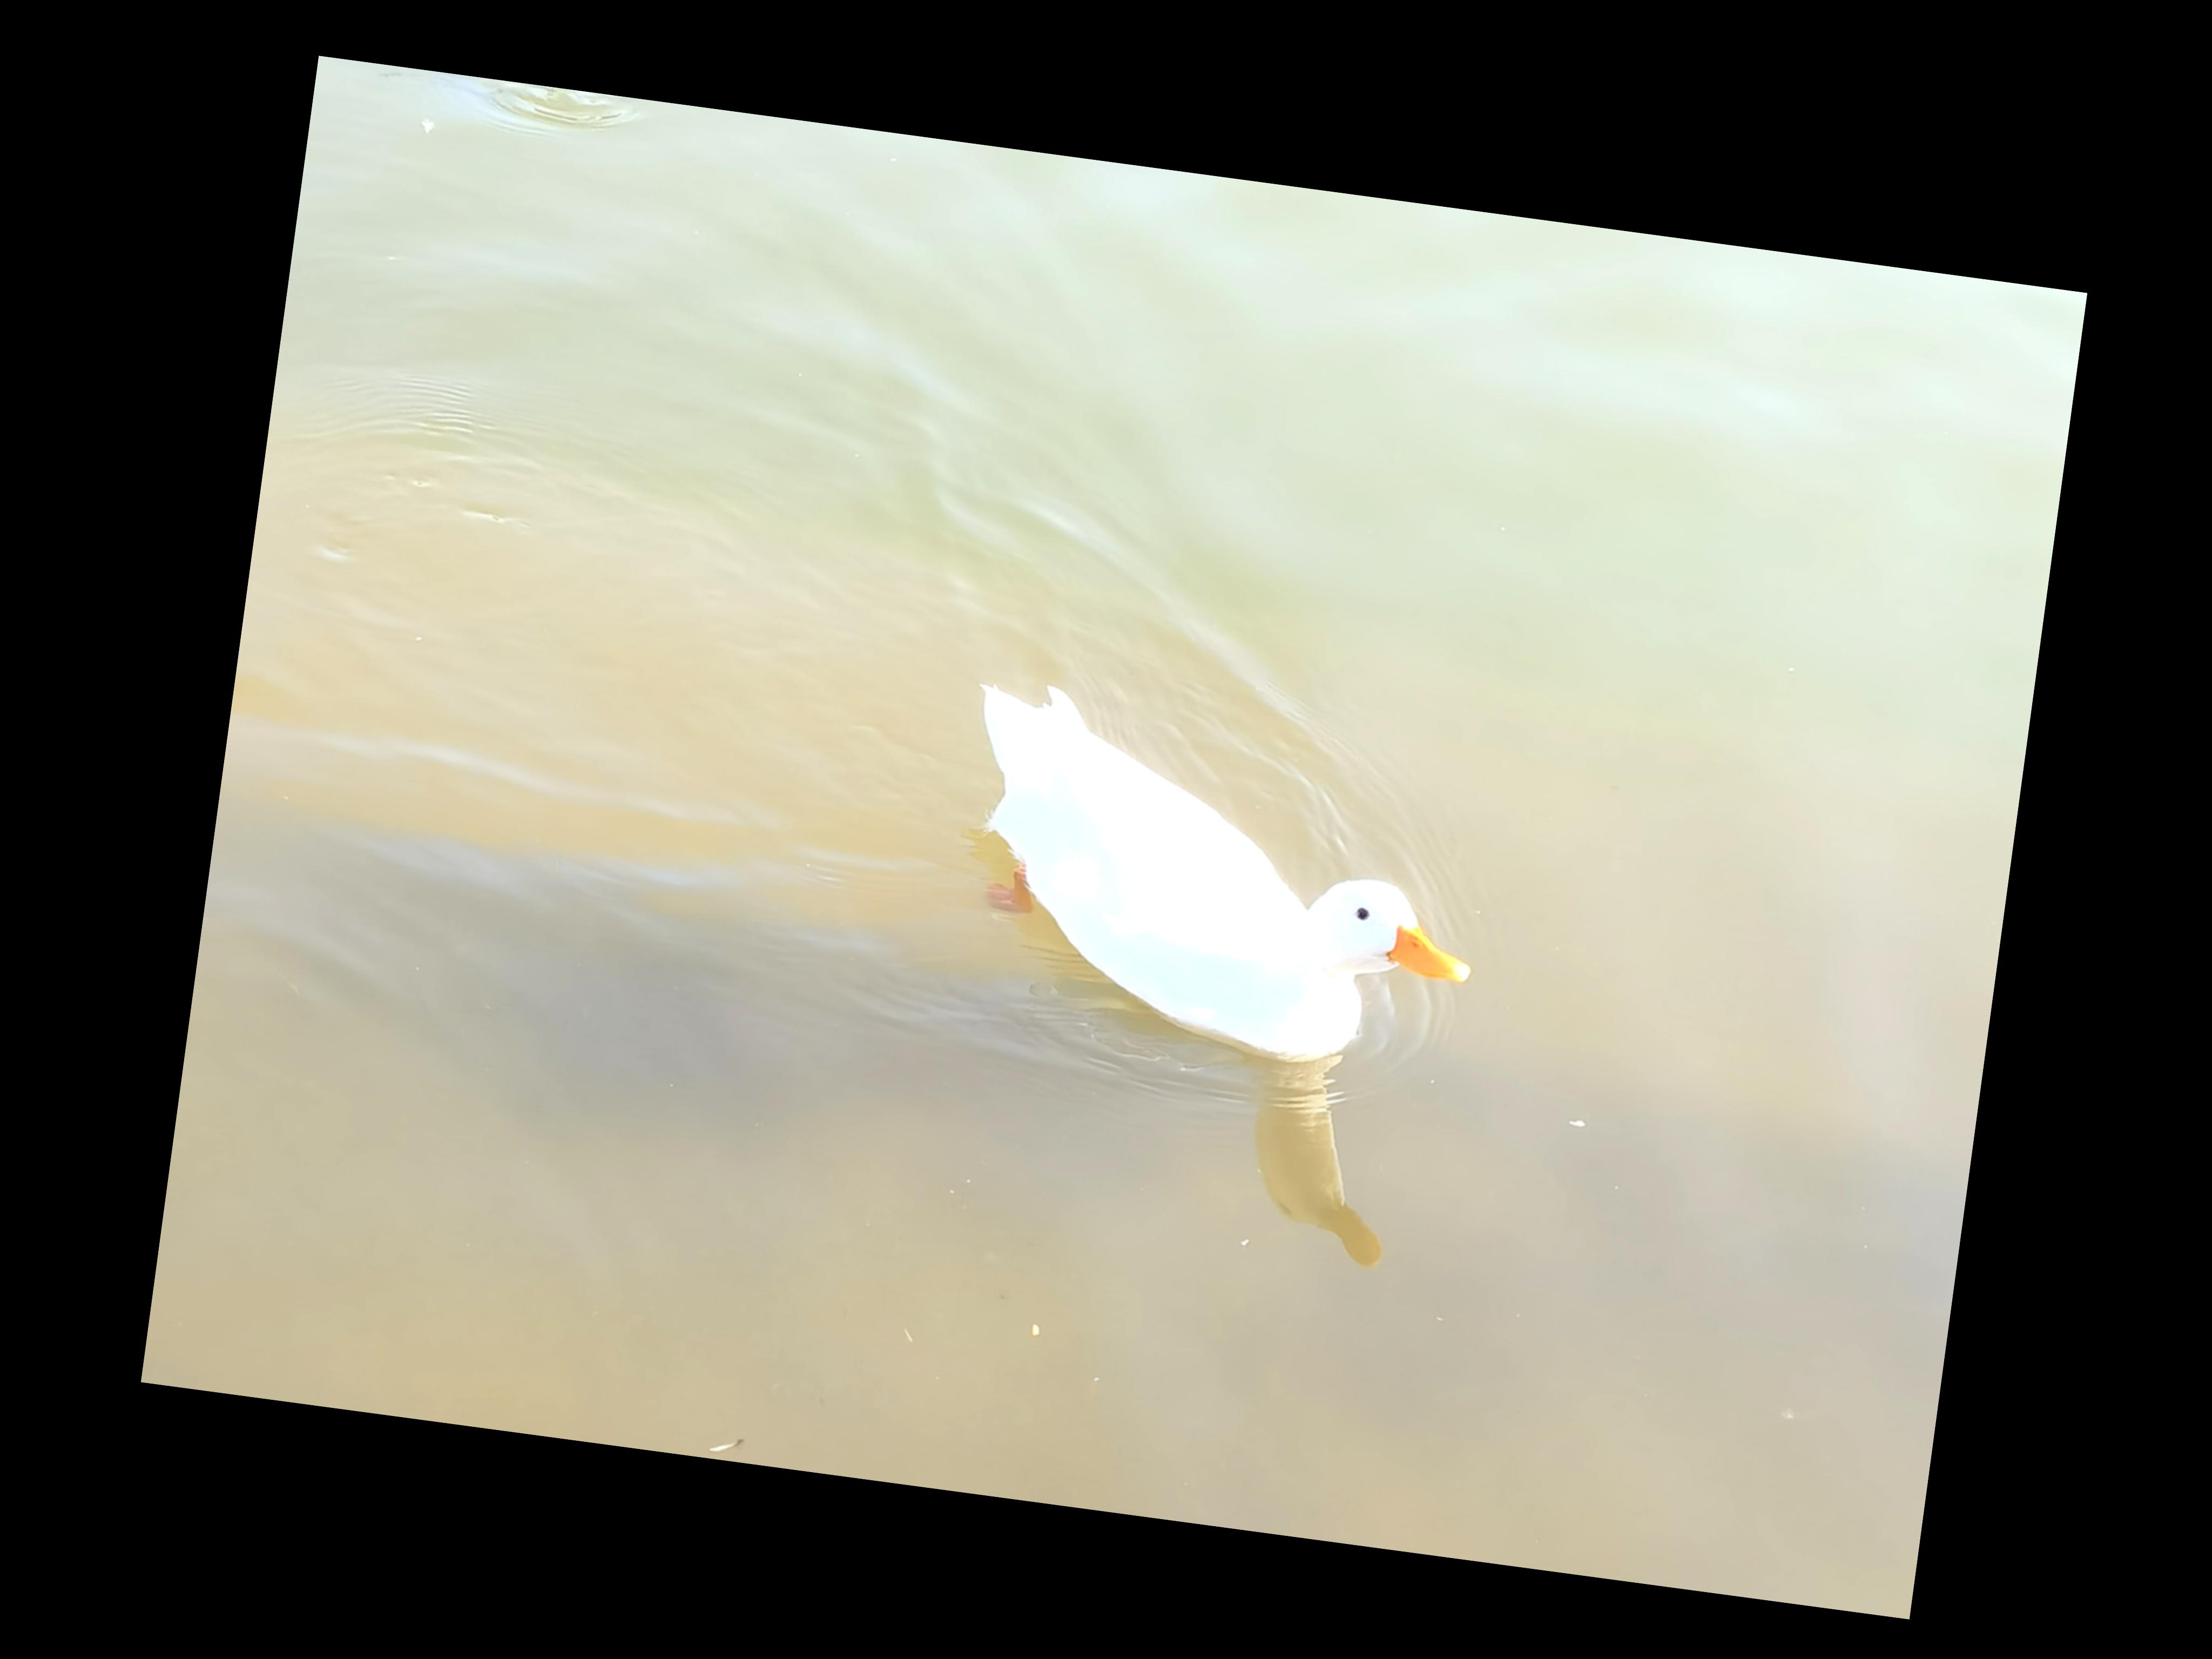duck: (914, 653, 1517, 1114)
